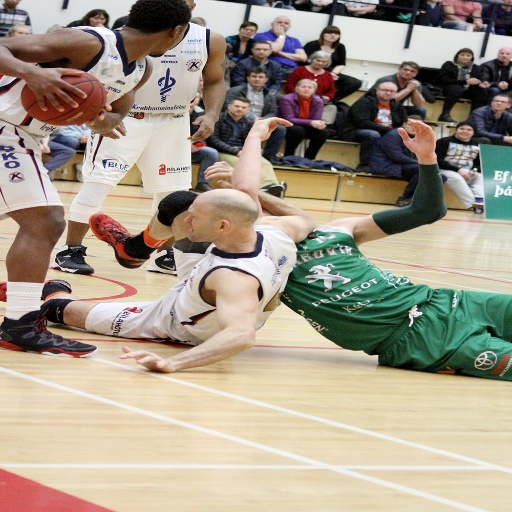hand: (24, 66, 86, 111), (403, 114, 451, 159), (77, 82, 114, 129), (117, 344, 174, 373), (246, 116, 293, 141), (185, 112, 214, 142), (202, 160, 232, 187), (100, 121, 126, 139), (272, 22, 285, 37), (456, 167, 468, 181), (189, 92, 199, 107), (468, 167, 481, 178), (496, 79, 508, 90), (465, 77, 480, 85), (38, 143, 51, 152), (77, 133, 87, 144), (321, 93, 332, 103), (310, 118, 323, 126), (477, 80, 490, 88), (403, 82, 414, 91), (188, 144, 200, 152), (406, 78, 419, 85), (472, 20, 482, 29), (330, 70, 338, 80), (93, 21, 105, 27), (317, 122, 326, 130), (269, 50, 279, 56), (235, 146, 241, 155), (503, 136, 511, 142)
